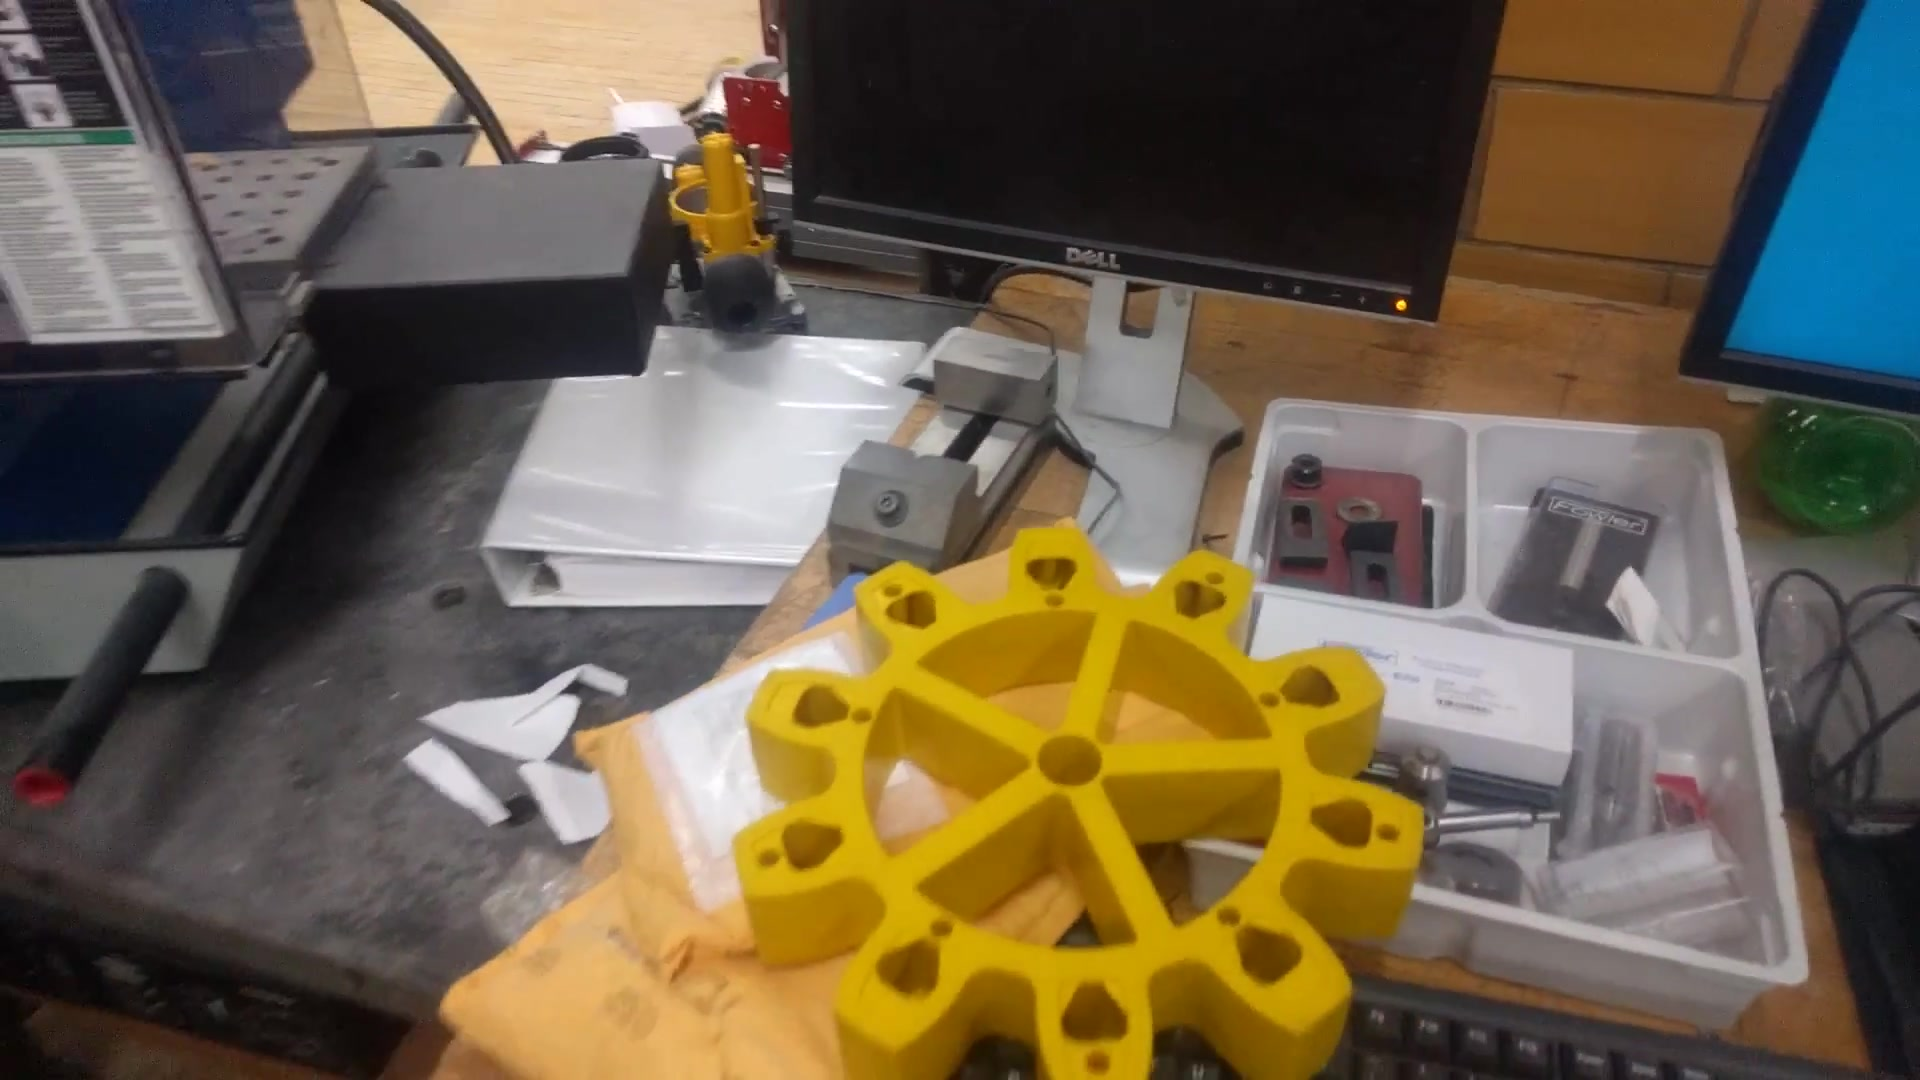gear: (735, 518, 1445, 1080)
